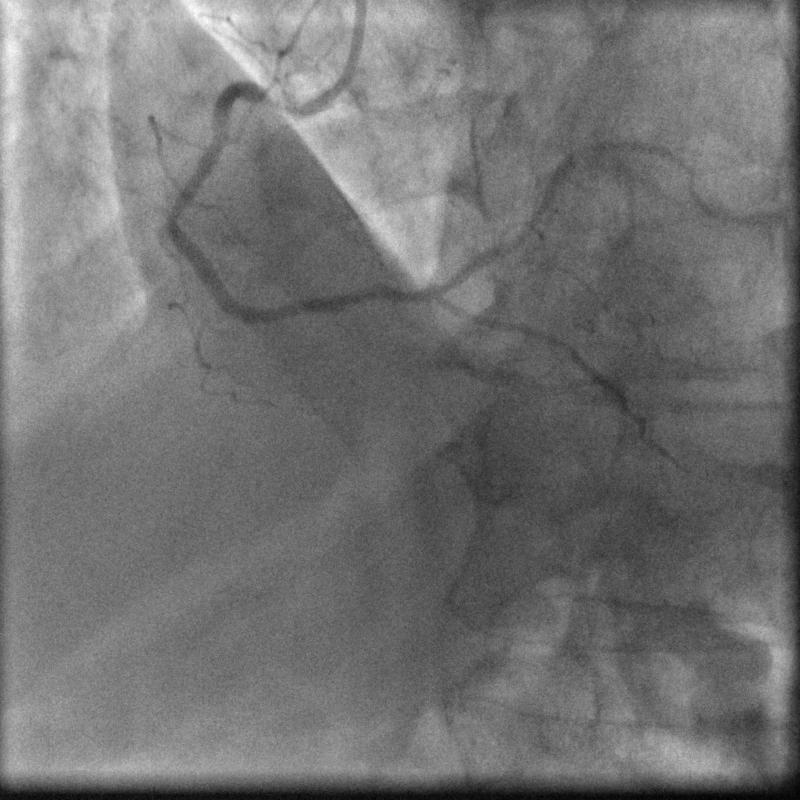Stenosis: (164, 199, 190, 219)
